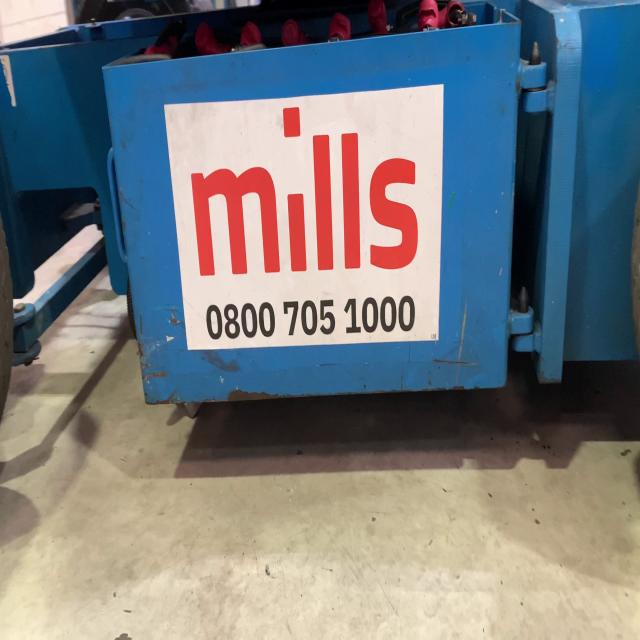Adesivos: (159, 66, 450, 366)
